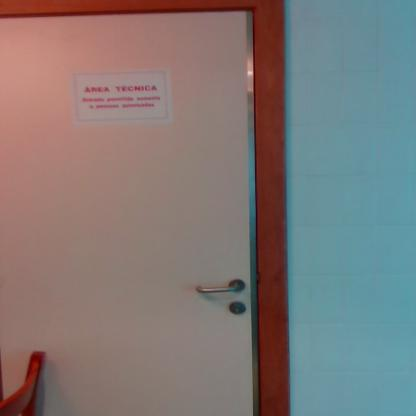door: (0, 15, 257, 416), (194, 284, 244, 296)
